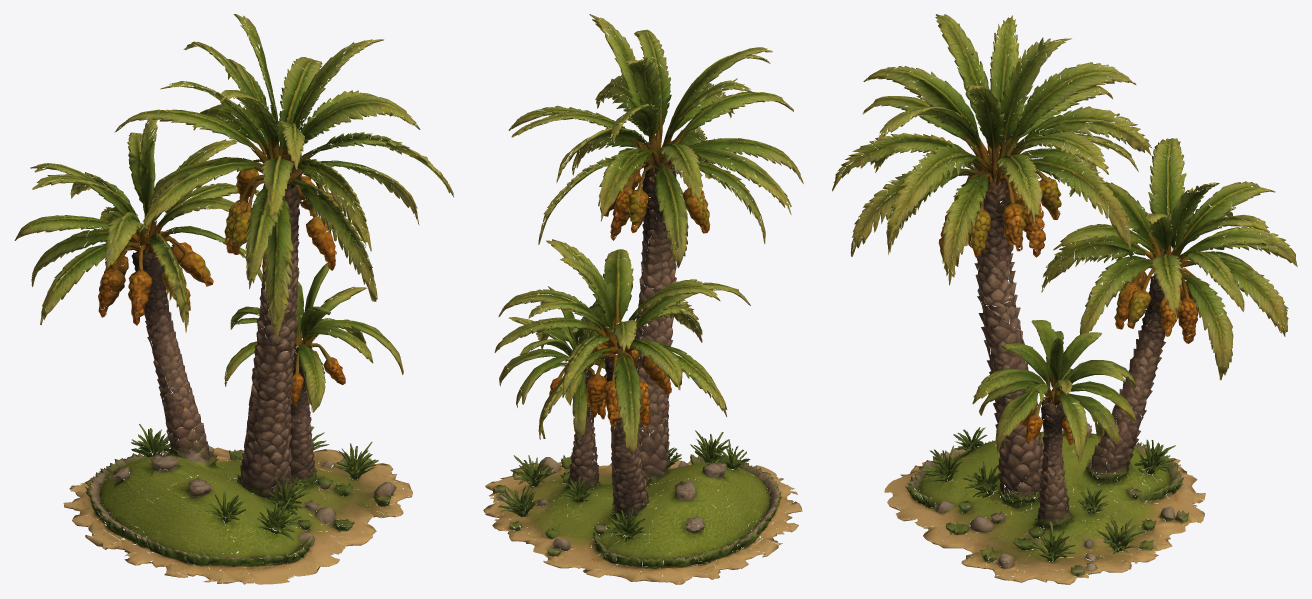
Rendered from date-palm-tripo.glb.
The picture shows the model from 3 angles, left to right: view 1: azimuth 30°, elevation 25°; view 2: azimuth 150°, elevation 25°; view 3: azimuth 270°, elevation 25°; orthographic projection. The views are drawn at different scales.
Visible parts, largest first — view 1: tripo_node_49b9074b-2453-41fa-9541-6eb8d2a37d02; view 2: tripo_node_49b9074b-2453-41fa-9541-6eb8d2a37d02; view 3: tripo_node_49b9074b-2453-41fa-9541-6eb8d2a37d02.
Part boxes in pixels (x1,y1,x2,y2): tripo_node_49b9074b-2453-41fa-9541-6eb8d2a37d02: [14, 14, 453, 584]; tripo_node_49b9074b-2453-41fa-9541-6eb8d2a37d02: [483, 14, 803, 584]; tripo_node_49b9074b-2453-41fa-9541-6eb8d2a37d02: [832, 14, 1297, 584].
Bounding box in the file's own units: 0.652 × 1 × 0.89.
Materials: 1 (1 with a texture image).
